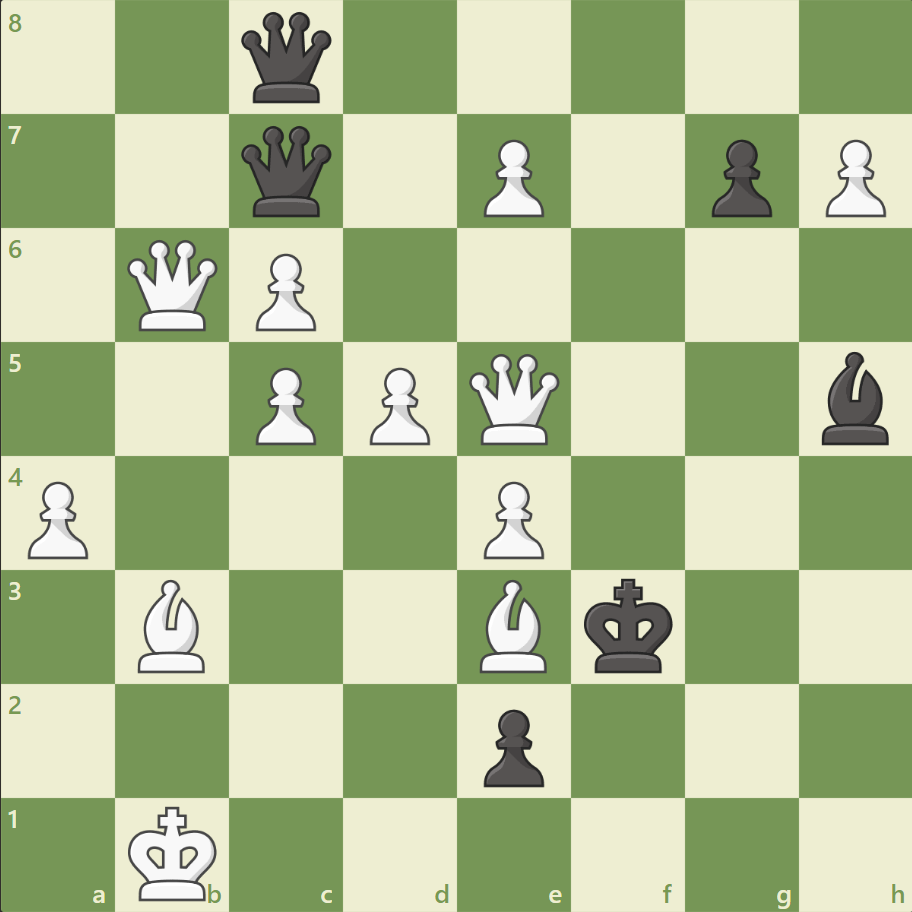B: (131, 574, 215, 676), (471, 574, 555, 676)
K: (124, 798, 224, 906)
P: (474, 132, 549, 223), (247, 246, 322, 337), (247, 359, 322, 450), (20, 473, 95, 564), (474, 473, 549, 564), (815, 132, 889, 223), (361, 359, 435, 450)
Q: (464, 349, 563, 449), (124, 236, 223, 335)
b: (812, 347, 896, 449)
k: (579, 571, 679, 679)
p: (701, 132, 776, 223), (474, 700, 549, 791)
q: (237, 122, 336, 222), (237, 9, 336, 108)
